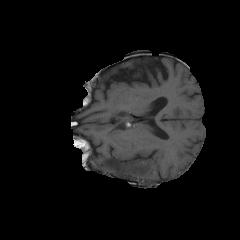glioma: (78, 139, 152, 181)
